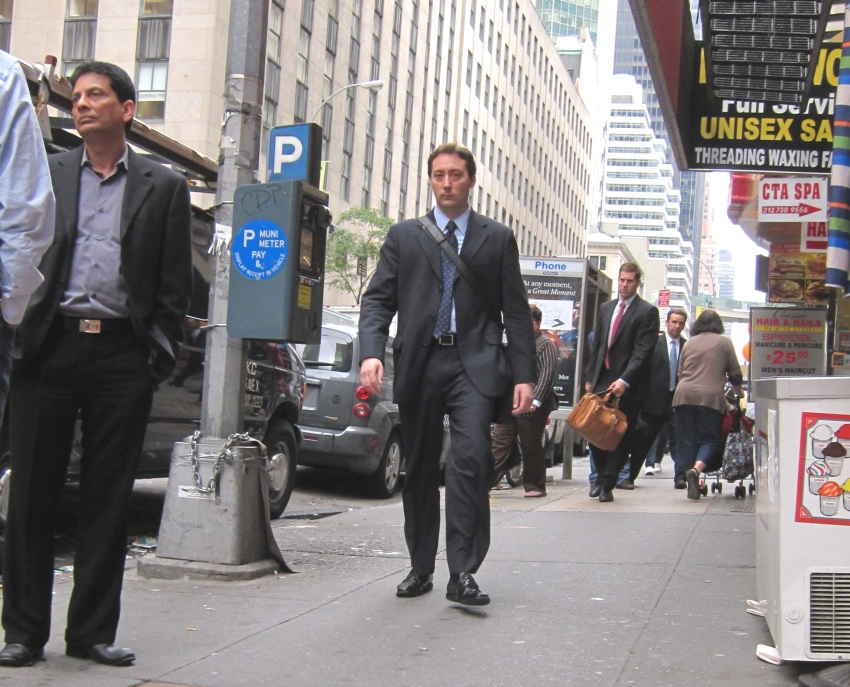person: (1, 55, 197, 672), (339, 137, 546, 621), (566, 254, 665, 512), (661, 303, 747, 503)
